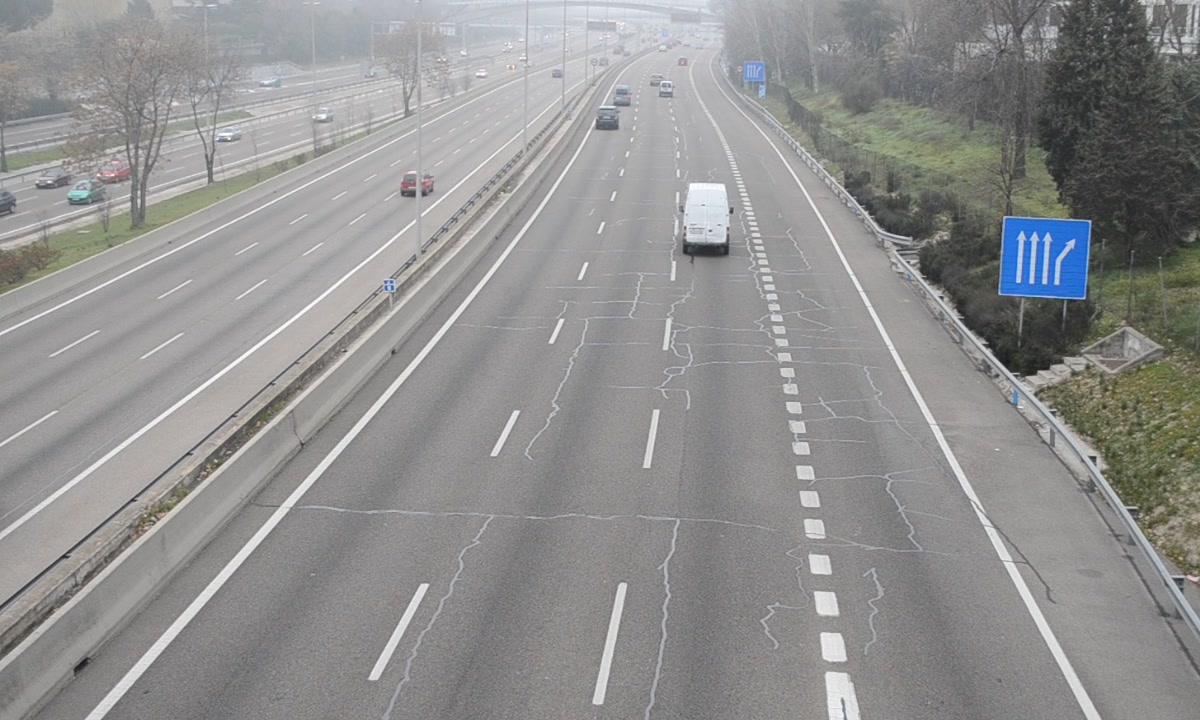car: (597, 105, 619, 130)
van: (682, 182, 733, 254)
